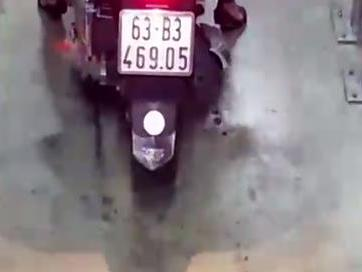num_plate: (117, 9, 194, 76)
